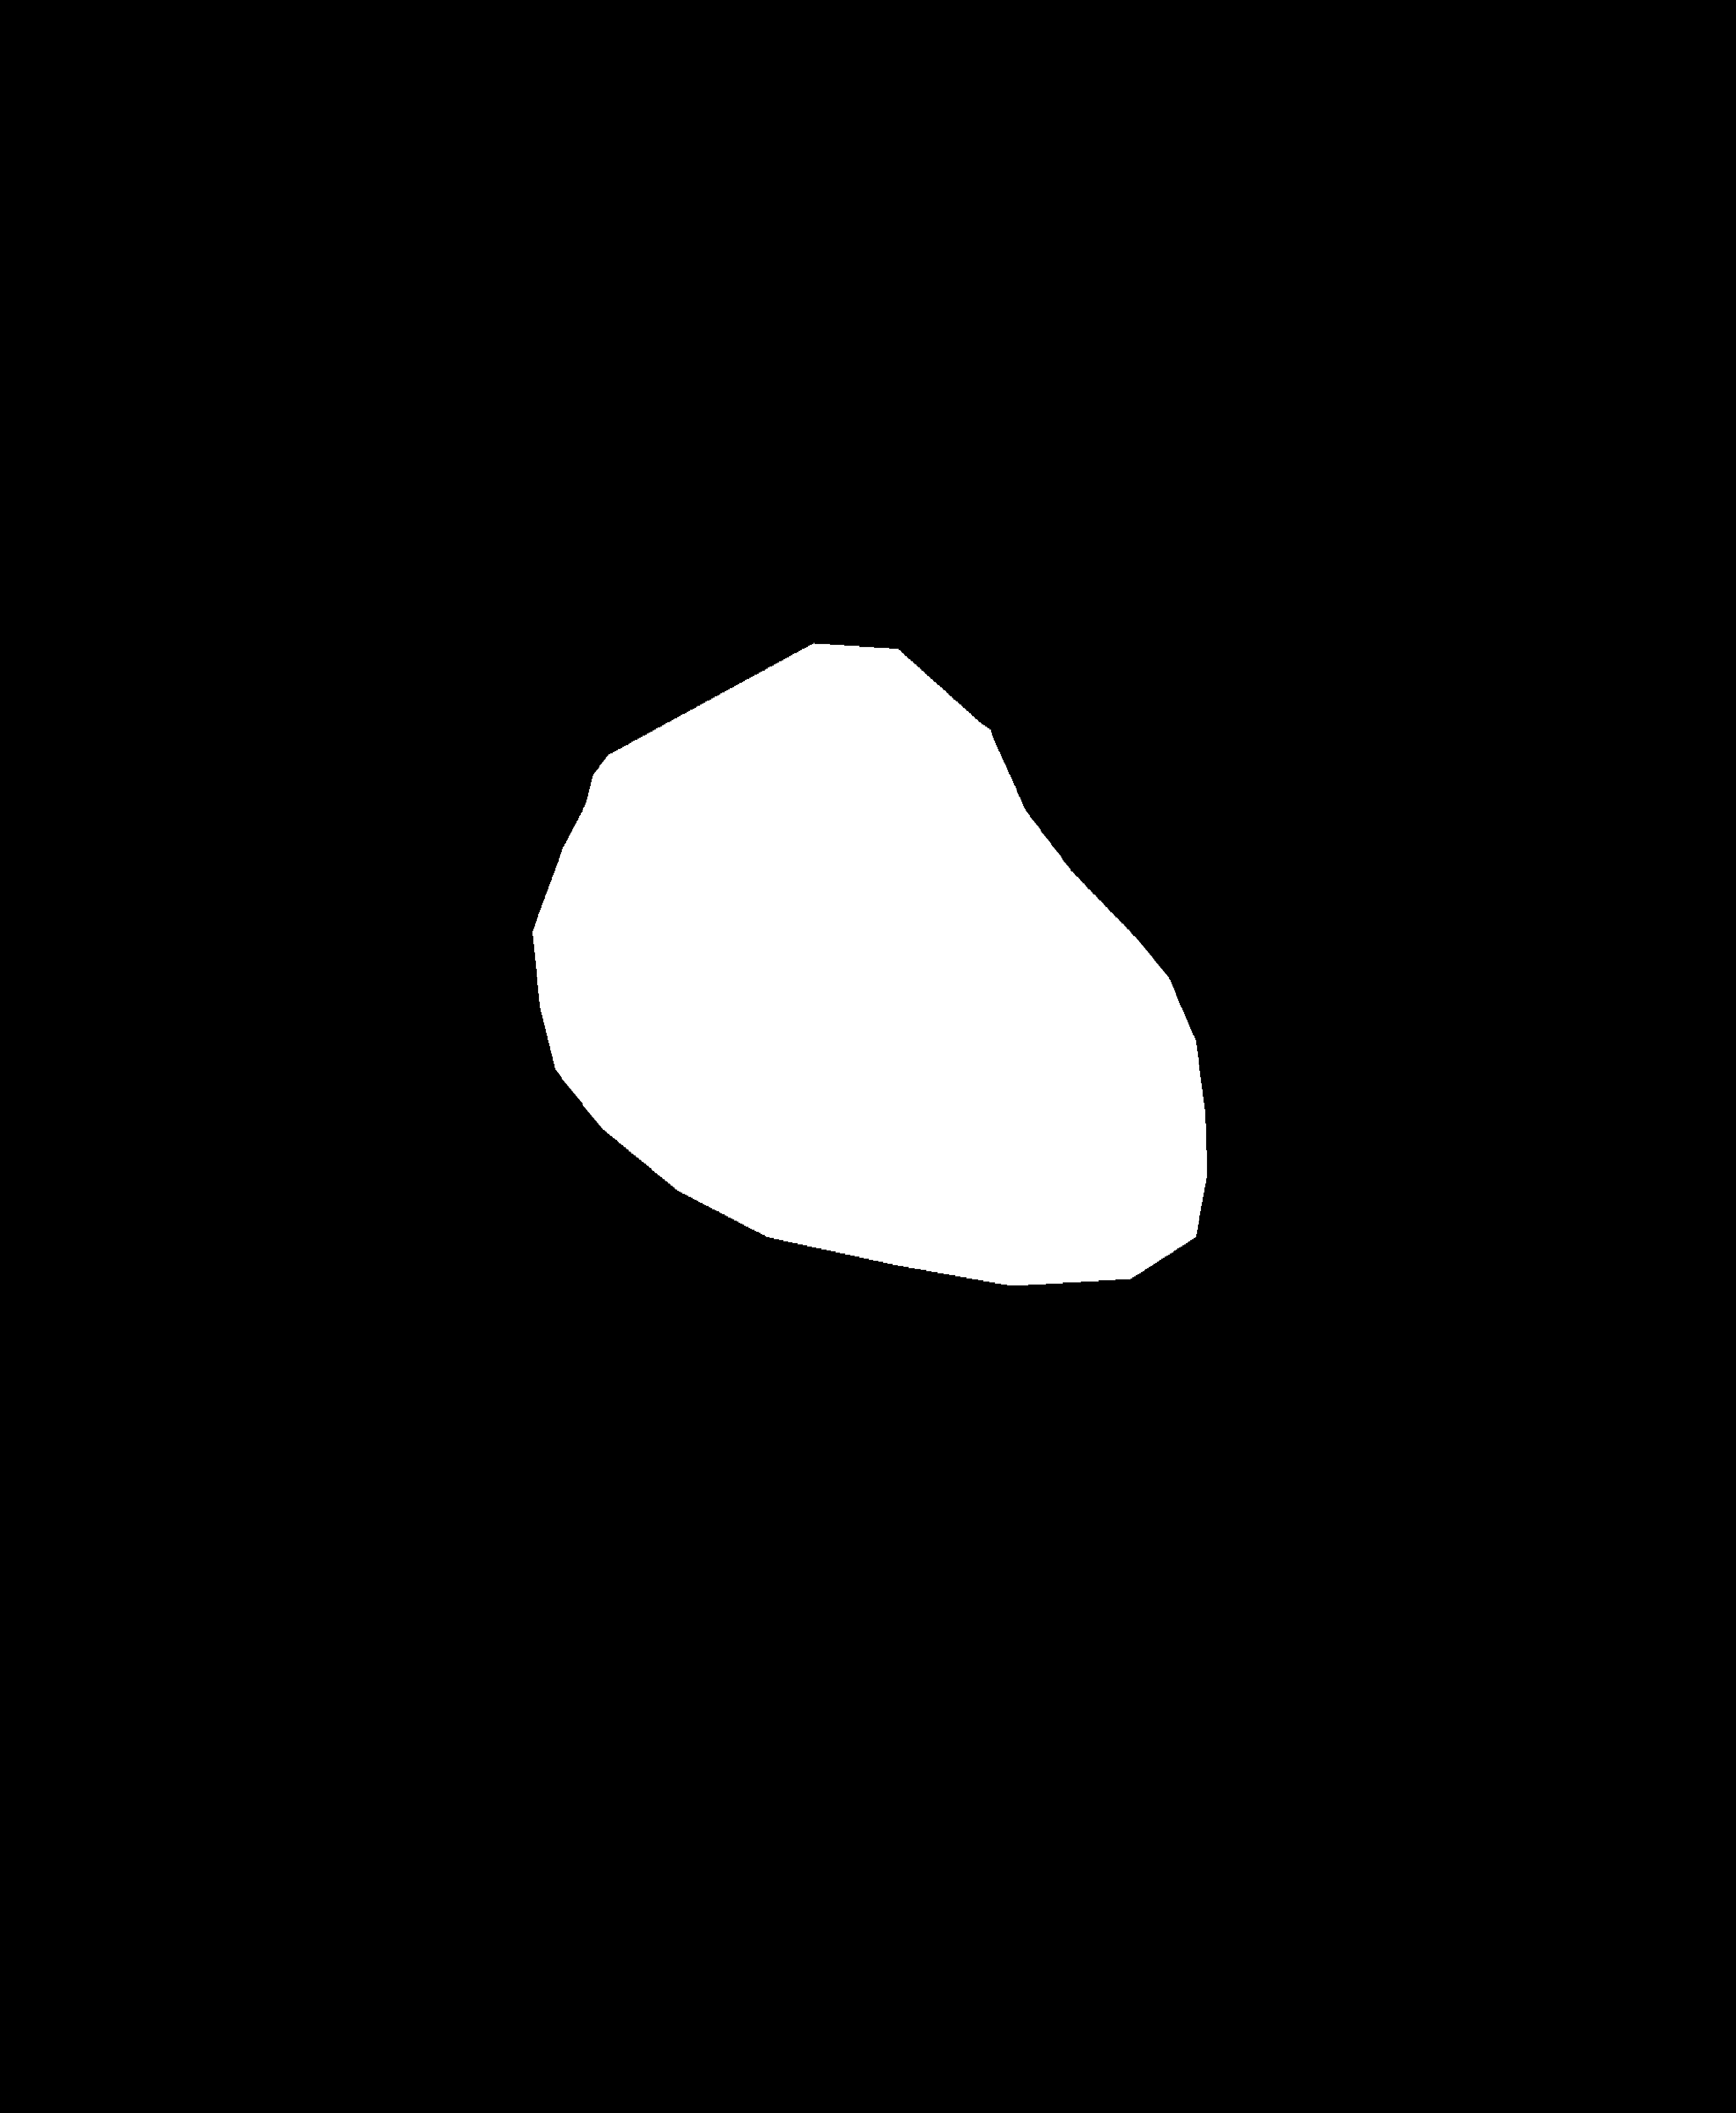heart: (528, 806, 1237, 1293)
left_lung: (121, 130, 714, 1199)
right_lung: (865, 144, 1546, 1390)
